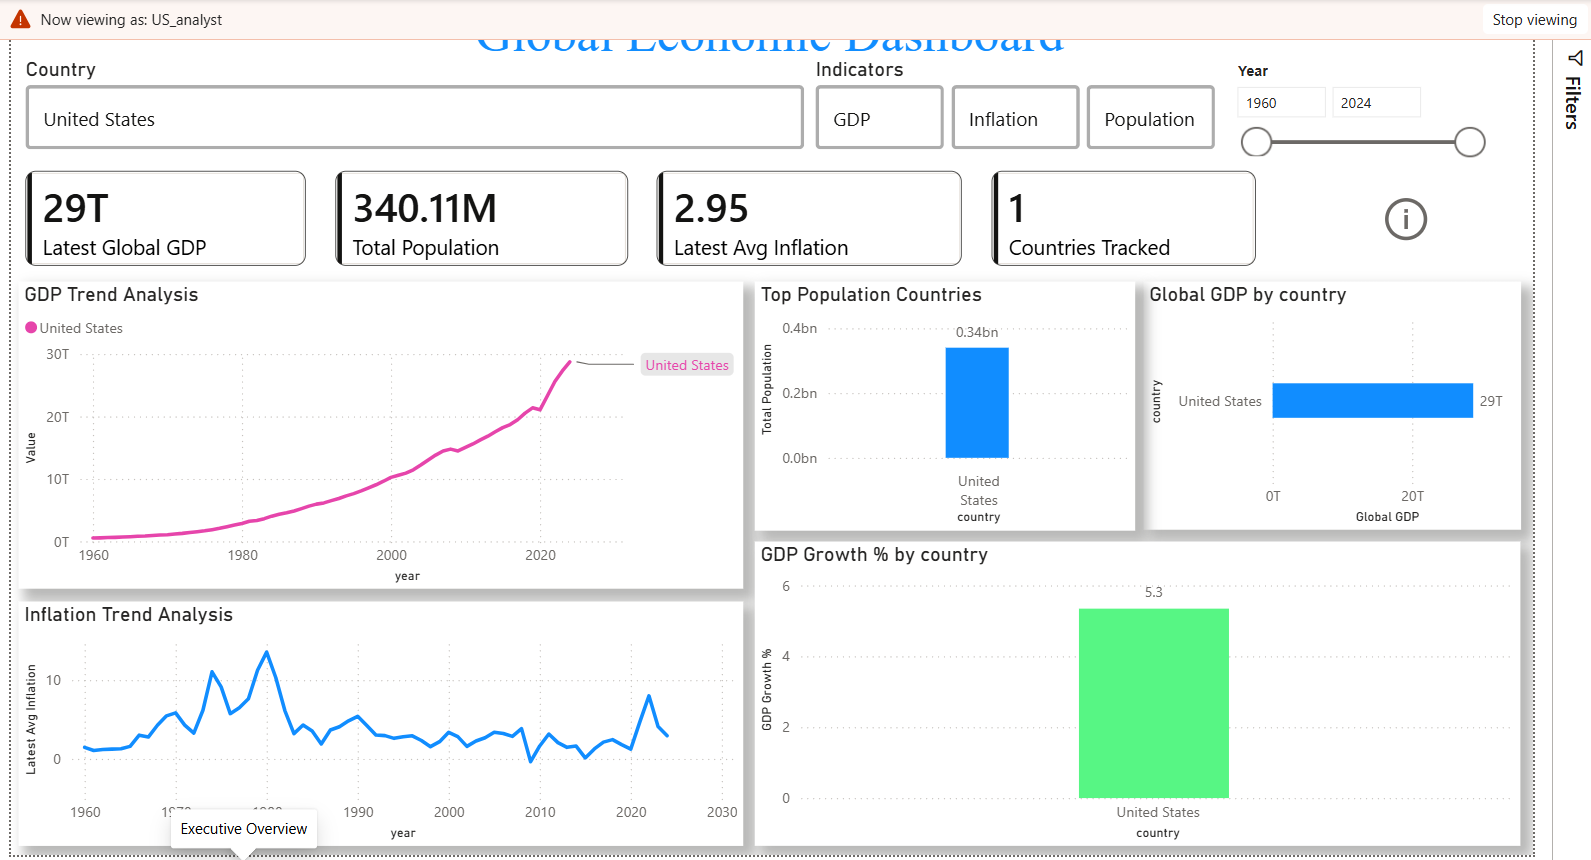

The dashboard page shown, as its layout file describes it:
{"tool":"powerbi","page":{"name":"Executive Overview","canvas":[1280,720],"ordinal":0},"visuals":[{"type":"textbox","box":[6.8,0,1263.5,59.8],"z":0},{"type":"actionButton","box":[1150,161.6,50,46.5],"z":1000},{"type":"advancedSlicerVisual","title":"Indicators","fields":{"Values":["economic_analytics economic_data.indicator"]},"box":[672.1,48.8,346.5,83.7],"z":2000},{"type":"cardVisual","fields":{"Data":["economic_analytics economic_data.Latest GDP"]},"box":[0,132.6,260.5,104.7],"z":3000},{"type":"cardVisual","fields":{"Data":["economic_analytics economic_data.Average Inflation"]},"box":[531.4,132.6,281.4,104.7],"z":4000},{"type":"cardVisual","fields":{"Data":["economic_analytics economic_data.Total Population"]},"box":[260.5,132.6,270.9,104.7],"z":5000},{"type":"lineChart","title":"GDP Trend Analysis","fields":{"Category":["economic_analytics economic_data.year"],"Series":["economic_analytics economic_data.country"],"Y":["Sum(economic_analytics economic_data.value)"]},"box":[6.8,237.1,609.7,258.6],"z":6000},{"type":"slicer","fields":{"Values":["economic_analytics economic_data.year"]},"box":[1018.6,48.8,229.1,100],"z":7000},{"type":"cardVisual","fields":{"Data":["Count(economic_analytics economic_data.country)"]},"box":[812.8,132.6,246.5,104.7],"z":8000},{"type":"clusteredBarChart","fields":{"Category":["economic_analytics economic_data.country"],"Y":["economic_analytics economic_data.Global GDP"]},"box":[953,237.1,317.3,208.9],"z":9000},{"type":"lineChart","title":"Inflation Trend Analysis","fields":{"Category":["economic_analytics economic_data.year"],"Y":["economic_analytics economic_data.Latest Avg Inflation"]},"box":[6.8,507,609.7,205.5],"z":10000},{"type":"columnChart","title":"Top Population Countries","fields":{"Category":["economic_analytics economic_data.country"],"Y":["economic_analytics economic_data.Total Population"]},"box":[625.6,237.2,319.8,209.3],"z":11000},{"type":"advancedSlicerVisual","title":"Country","fields":{"Values":["economic_analytics economic_data.country"]},"box":[7,48.8,665.1,83.7],"z":12000},{"type":"clusteredColumnChart","fields":{"Category":["economic_analytics economic_data.country"],"Y":["economic_analytics economic_data.GDP Growth %"]},"box":[625.6,455.8,644.2,255.8],"z":13000}]}

Visuals, with their boxes on the page's 1280x720 design canvas (x1, y1, x2, y2). These are canvas units, not pixel positions in the 1591x860 screenshot, which may show the page scaled, cropped or inside an application window:
textbox: Rect(7, 0, 1270, 60)
actionButton: Rect(1150, 162, 1200, 208)
"Indicators" advancedSlicerVisual: Rect(672, 49, 1019, 132)
cardVisual - economic_analytics economic_data.Latest GDP: Rect(0, 133, 260, 237)
cardVisual - economic_analytics economic_data.Average Inflation: Rect(531, 133, 813, 237)
cardVisual - economic_analytics economic_data.Total Population: Rect(260, 133, 531, 237)
"GDP Trend Analysis" lineChart: Rect(7, 237, 616, 496)
slicer - economic_analytics economic_data.year: Rect(1019, 49, 1248, 149)
cardVisual - Count(economic_analytics economic_data.country): Rect(813, 133, 1059, 237)
clusteredBarChart - economic_analytics economic_data.country x economic_analytics economic_data.Global GDP: Rect(953, 237, 1270, 446)
"Inflation Trend Analysis" lineChart: Rect(7, 507, 616, 712)
"Top Population Countries" columnChart: Rect(626, 237, 945, 446)
"Country" advancedSlicerVisual: Rect(7, 49, 672, 132)
clusteredColumnChart - economic_analytics economic_data.country x economic_analytics economic_data.GDP Growth %: Rect(626, 456, 1270, 712)
